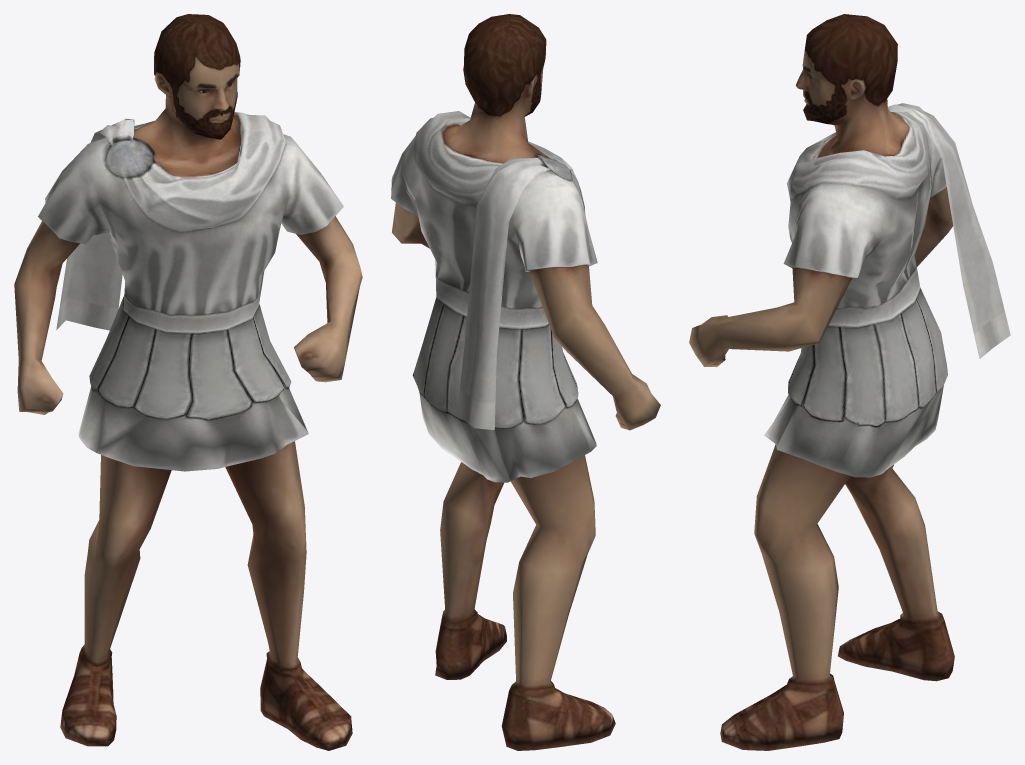
The model's file is body-base.glb.
3 views of the same model, side by side, from view 1: azimuth 30°, elevation 25°; view 2: azimuth 150°, elevation 25°; view 3: azimuth 270°, elevation 25° (orthographic). The views are drawn at different scales.
Size of the model in its own units: 0.9083 by 2.02 by 0.8614.
Materials: 1 (1 with a texture image).
